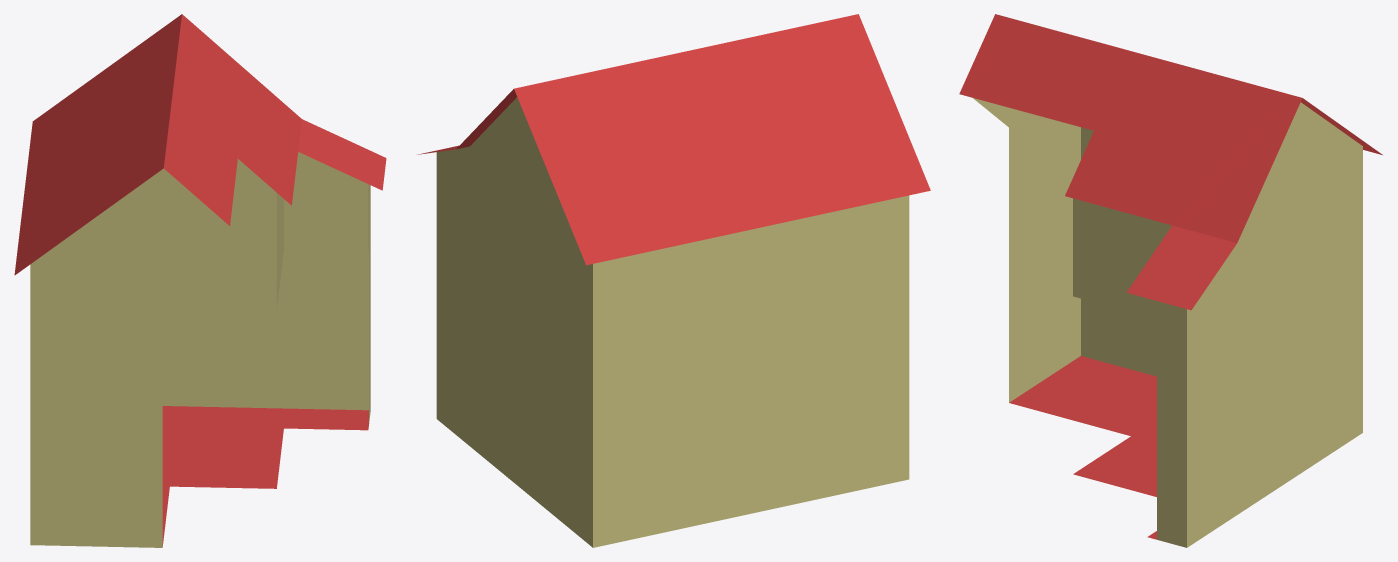
3 views of the same model, side by side, from view 1: azimuth 30°, elevation 25°; view 2: azimuth 150°, elevation 25°; view 3: azimuth 270°, elevation 25° (orthographic). The views are drawn at different scales.
Bounding box in the file's own units: 16.48 × 14.1 × 14.15.
